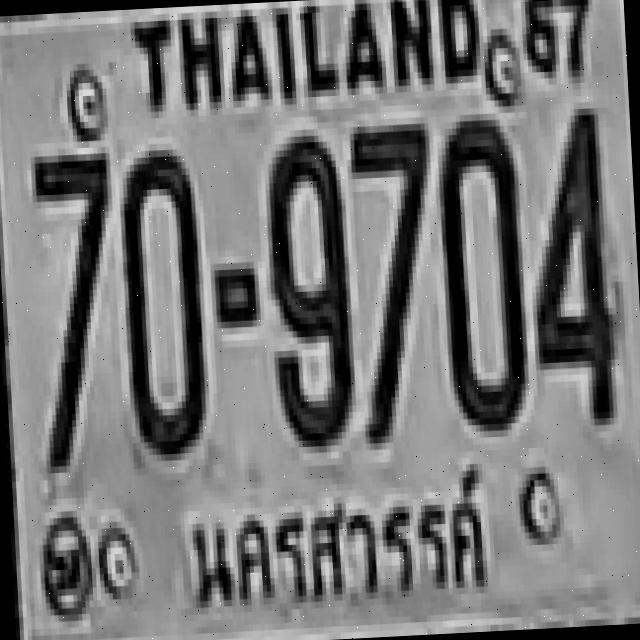0: (432, 112, 527, 426), (115, 142, 206, 456)
4: (523, 101, 618, 422)
7: (346, 116, 440, 438), (30, 147, 121, 467), (30, 147, 116, 370), (345, 117, 435, 328)
9: (262, 128, 354, 442)
NakhonSawan: (164, 452, 512, 640)
